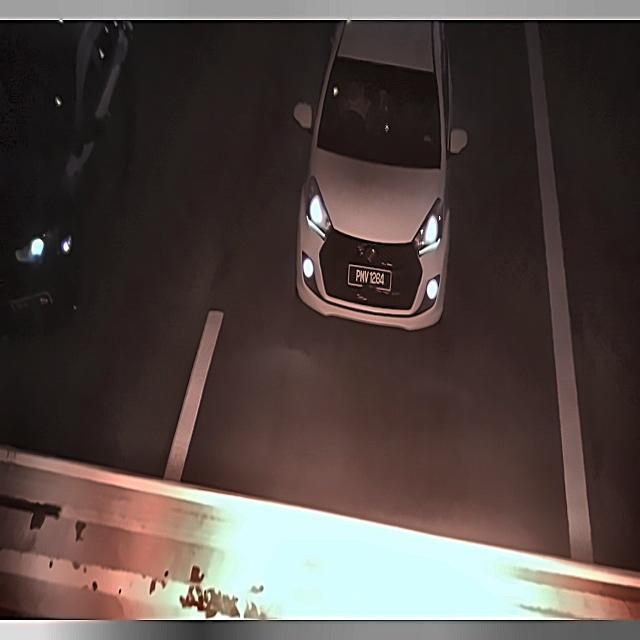car: (347, 263, 394, 302)
